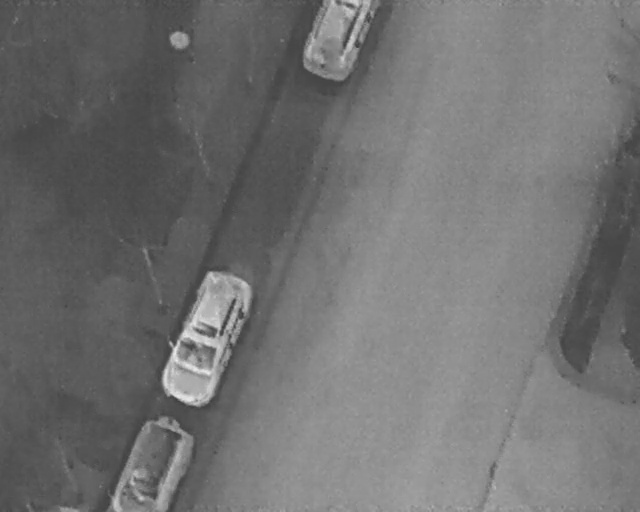Car: (154, 264, 259, 411), (105, 414, 193, 512), (302, 0, 380, 84)
